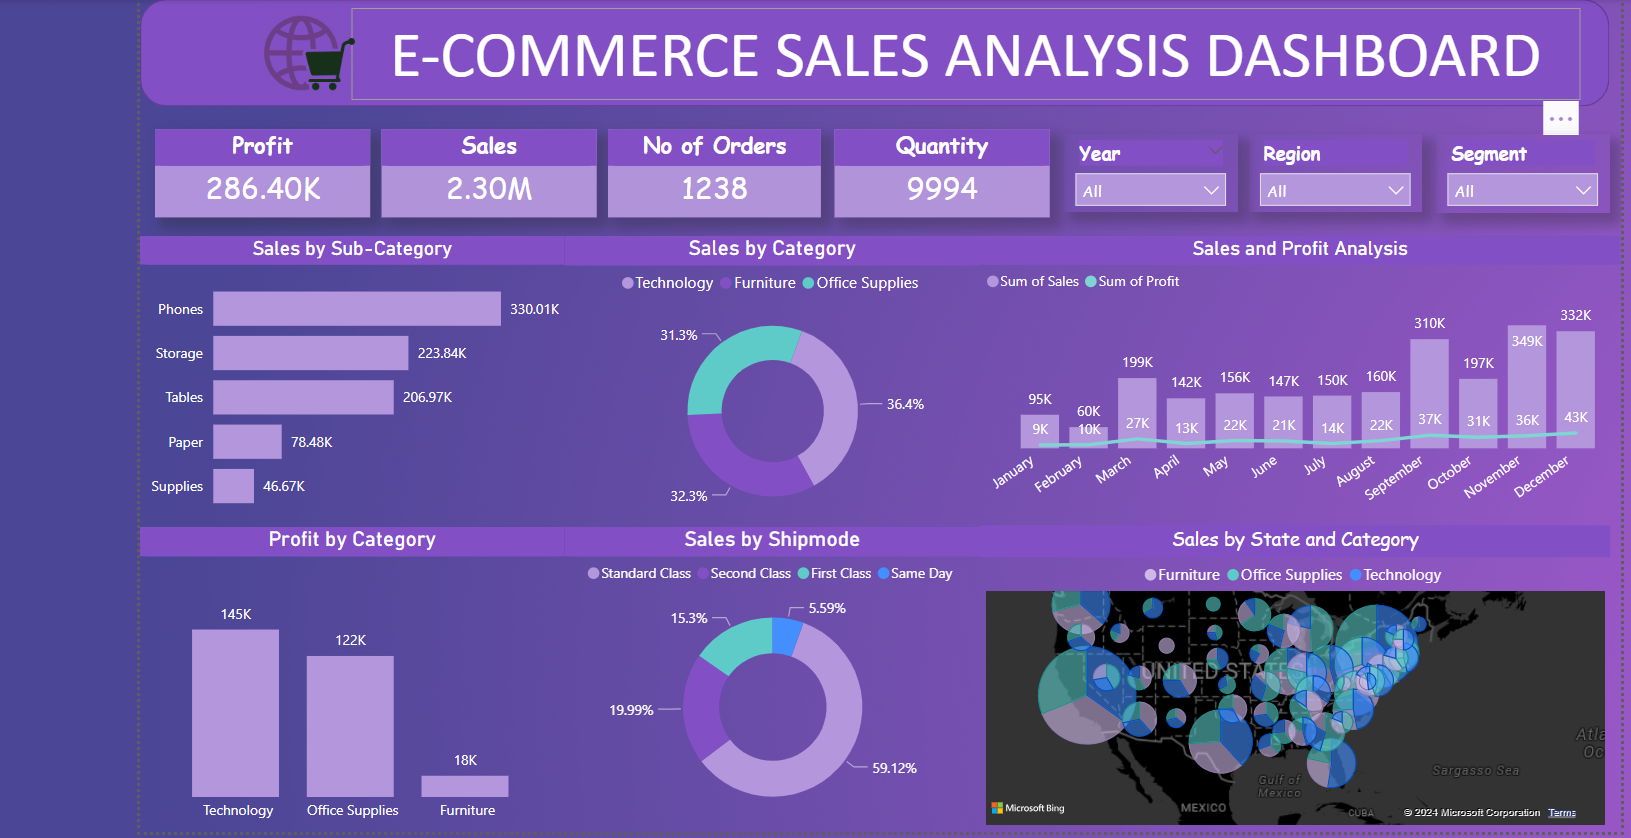

What the dashboard file says about the page in this screenshot:
{"tool":"powerbi","page":{"name":"Dashboard","canvas":[1280,720],"ordinal":0},"visuals":[{"type":"card","title":" Profit","fields":{"Values":["Sum(Data.Profit)"]},"box":[13.1,108.1,154.8,75.9],"z":0},{"type":"card","title":" Sales ","fields":{"Values":["Sum(Data.Sales)"]},"box":[179.6,108.1,154.8,75.9],"z":1000},{"type":"card","title":"Orders","fields":{"Values":["Count(Data.Order Date)"]},"box":[344.7,108.1,154.8,75.9],"z":2000},{"type":"card","title":"Quantity","fields":{"Values":["CountNonNull(Data.Quantity)"]},"box":[509.7,108.1,154.8,75.9],"z":3000},{"type":"shape","box":[0,0,1270,92.9],"z":4000},{"type":"donutChart","title":"Sales by Category","fields":{"Category":["Data.Category"],"Y":["Sum(Data.Sales)"]},"box":[366.6,204.5,359.3,252.7],"z":5000},{"type":"clusteredBarChart","title":"Sales by Sub-Category","fields":{"Y":["Sum(Data.Sales)"],"Category":["Data.Sub-Category"]},"box":[0,204.8,367,252],"z":6000},{"type":"columnChart","title":" Profit by Category","fields":{"Y":["Sum(Data.Profit)"],"Category":["Data.Category"]},"box":[0,456.8,367,263],"z":7000},{"type":"lineStackedColumnComboChart","title":"Sales and Profit Analysis","fields":{"Y":["Sum(Data.Sales)"],"Category":["Data.Order Date.Variation.Date Hierarchy.Month"],"Y2":["Sum(Data.Profit)"]},"box":[725.8,204.5,553.5,251.2],"z":8000},{"type":"map","title":" Sales by Top 10 State and Category","fields":{"Category":["Data.State"],"Size":["Sum(Data.Sales)"],"Series":["Data.Category"]},"box":[725.8,457.1,544.7,262.9],"z":9000},{"type":"slicer","fields":{"Values":["Data.Year"]},"box":[847.1,112.5,130,67.2],"z":10000},{"type":"textbox","box":[182.9,7.1,1061.4,80],"z":11000},{"type":"slicer","fields":{"Values":["Data.Region"]},"box":[988.7,112.5,130,67.2],"z":12000},{"type":"slicer","fields":{"Values":["Data.Segment"]},"box":[1128.9,112.5,130,67.2],"z":13000},{"type":"donutChart","title":"Sales by Shipmode","fields":{"Category":["Data.Ship Mode"],"Y":["Sum(Data.Sales)"]},"box":[366.6,457.1,362.2,262.9],"z":14000},{"type":"image","box":[77.4,0,134.4,97.8],"z":15000},{"type":"card","title":"Profit Margin ","fields":{"Values":["Avg(Data.profit margin)"]},"box":[674.7,108.1,154.8,75.9],"z":16000}]}

Visuals, with their boxes on the page's 1280x720 design canvas (x1, y1, x2, y2). These are canvas units, not pixel positions in the 1631x838 screenshot, which may show the page scaled, cropped or inside an application window:
" Profit" card: pyautogui.locateOnScreen(13, 108, 168, 184)
" Sales " card: pyautogui.locateOnScreen(180, 108, 334, 184)
"Orders" card: pyautogui.locateOnScreen(345, 108, 500, 184)
"Quantity" card: pyautogui.locateOnScreen(510, 108, 664, 184)
shape: pyautogui.locateOnScreen(0, 0, 1270, 93)
"Sales by Category" donutChart: pyautogui.locateOnScreen(367, 204, 726, 457)
"Sales by Sub-Category" clusteredBarChart: pyautogui.locateOnScreen(0, 205, 367, 457)
" Profit by Category" columnChart: pyautogui.locateOnScreen(0, 457, 367, 720)
"Sales and Profit Analysis" lineStackedColumnComboChart: pyautogui.locateOnScreen(726, 204, 1279, 456)
" Sales by Top 10 State and Category" map: pyautogui.locateOnScreen(726, 457, 1270, 720)
slicer - Data.Year: pyautogui.locateOnScreen(847, 112, 977, 180)
textbox: pyautogui.locateOnScreen(183, 7, 1244, 87)
slicer - Data.Region: pyautogui.locateOnScreen(989, 112, 1119, 180)
slicer - Data.Segment: pyautogui.locateOnScreen(1129, 112, 1259, 180)
"Sales by Shipmode" donutChart: pyautogui.locateOnScreen(367, 457, 729, 720)
image: pyautogui.locateOnScreen(77, 0, 212, 98)
"Profit Margin " card: pyautogui.locateOnScreen(675, 108, 830, 184)
